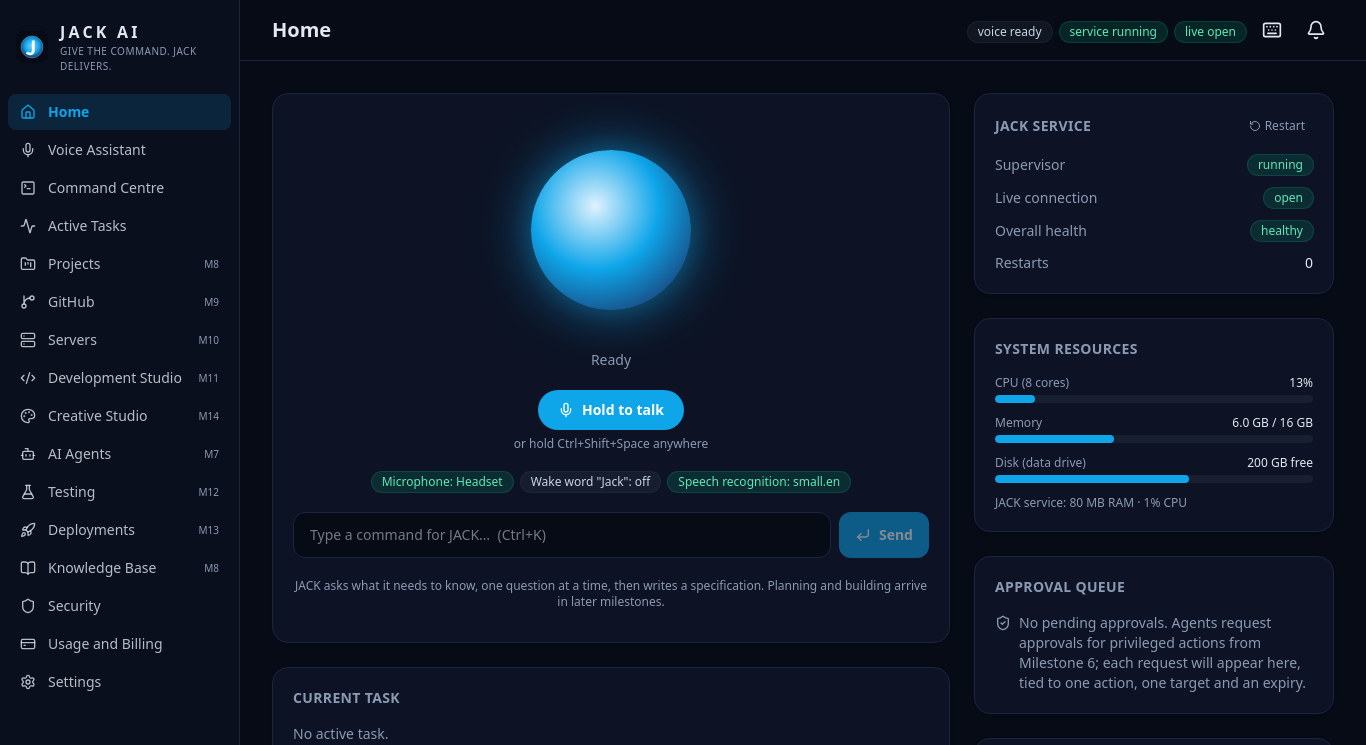
Test: Voice › shows service errors from push-to-talk
expect the text "live open" is shown: met, box left=1175, top=22, right=1246, bottom=42
Press the mouse on the button "Hold to talk" at {"x": 611, "y": 410}, box left=538, top=390, right=684, bottom=430
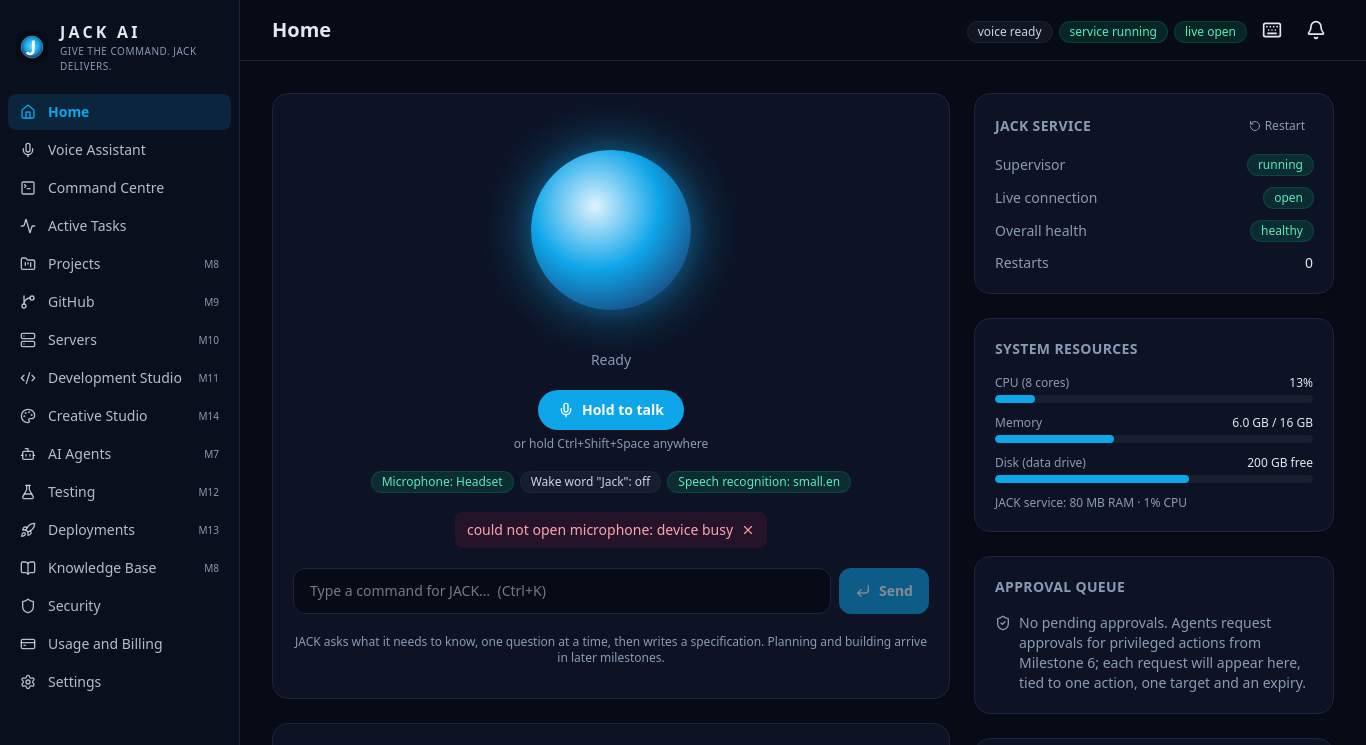
expect the message "could not open microphone: device busy" is shown: met, box left=455, top=512, right=767, bottom=548
